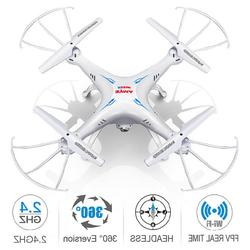drone: (10, 6, 240, 192)
